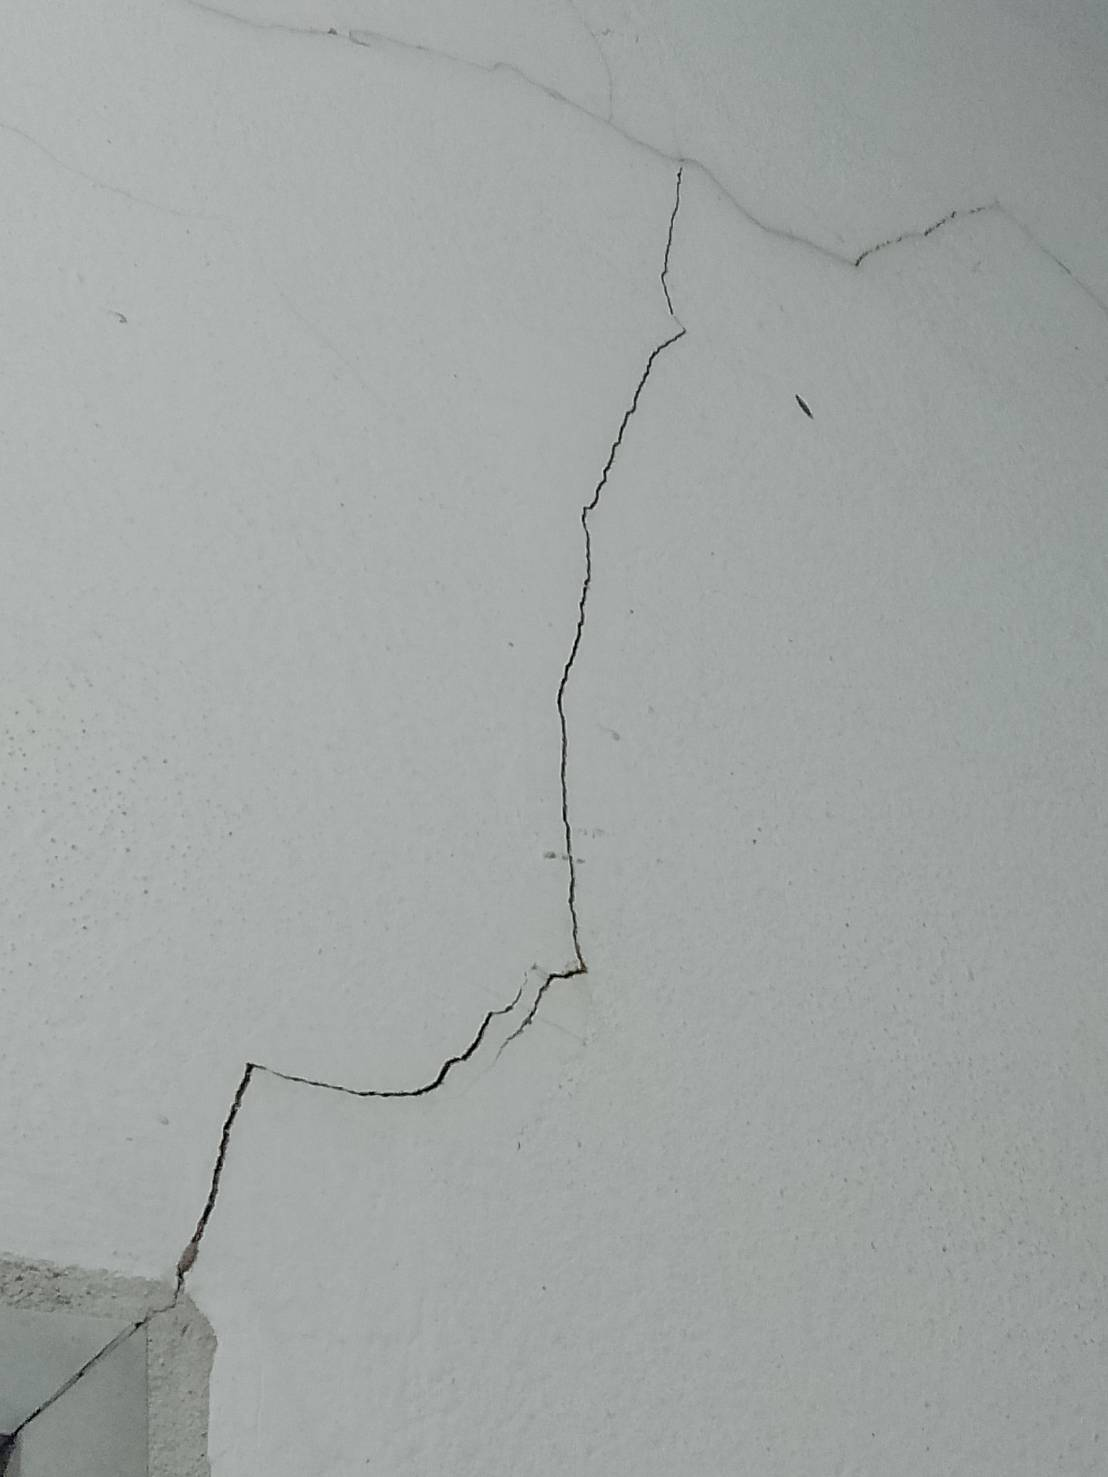Medium: (93, 292, 770, 1276)
